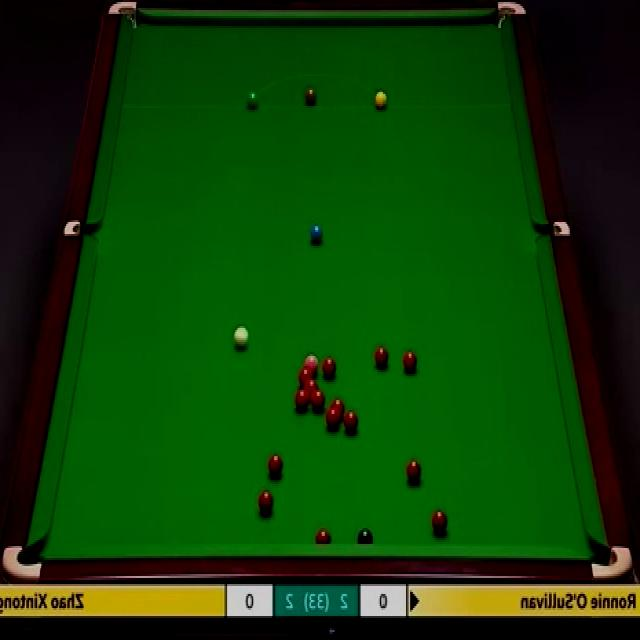black-ball: (359, 526, 375, 545)
blue-ball: (310, 224, 324, 246)
brown-ball: (305, 89, 316, 108)
green-ball: (242, 90, 258, 110)
pink-ball: (304, 352, 320, 367)
red-ball: (430, 508, 448, 536), (257, 488, 274, 514), (343, 409, 360, 434), (406, 458, 422, 484), (268, 454, 283, 480), (403, 349, 419, 373), (325, 407, 341, 431), (374, 346, 389, 368), (311, 390, 326, 412), (322, 356, 337, 377), (314, 528, 331, 546), (294, 391, 309, 410), (298, 368, 314, 384), (330, 398, 346, 412), (304, 379, 318, 391)
white-ball: (233, 324, 250, 349)
yellow-ball: (374, 89, 388, 108)
